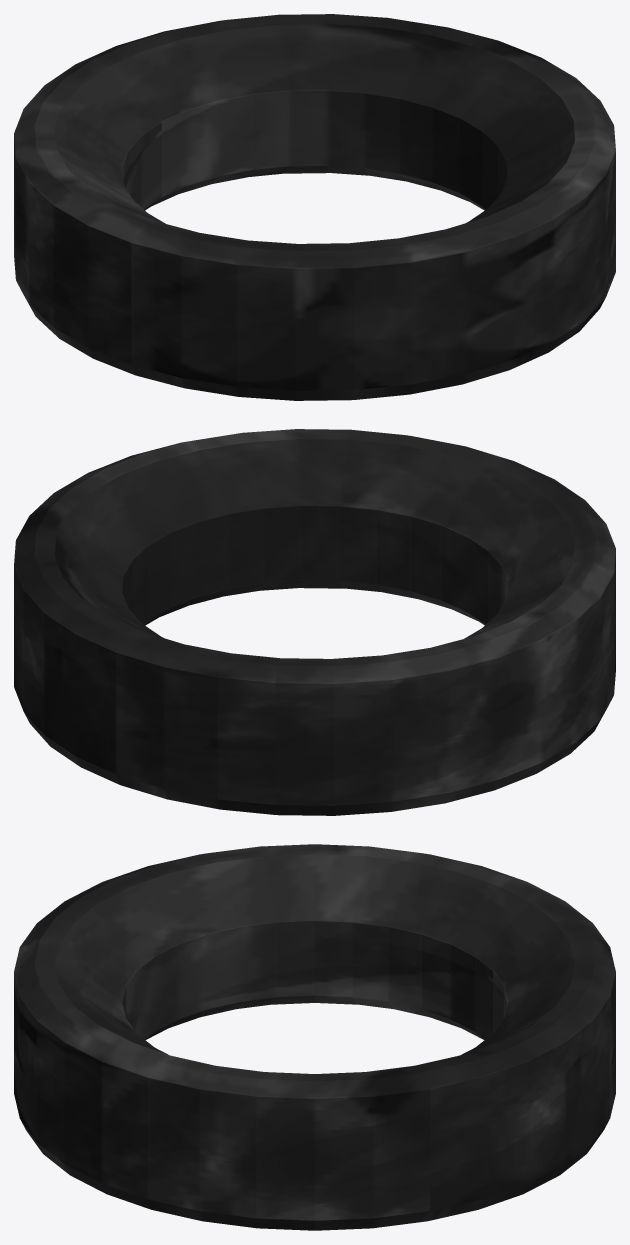
Rendered from пакрышка.fbx.
3 views of the same model, one above another, from view 1: azimuth 30°, elevation 25°; view 2: azimuth 150°, elevation 25°; view 3: azimuth 270°, elevation 25° (orthographic).
Visible parts, largest first — view 1: Цилиндр; view 2: Цилиндр; view 3: Цилиндр.
Part boxes in pixels (left/top/right/bottom): Цилиндр: left=14, top=14, right=615, bottom=400; Цилиндр: left=14, top=429, right=615, bottom=815; Цилиндр: left=14, top=844, right=615, bottom=1230.
Bounding box in the file's own units: 200 × 54.16 × 200.
1 material, 1 textured.
